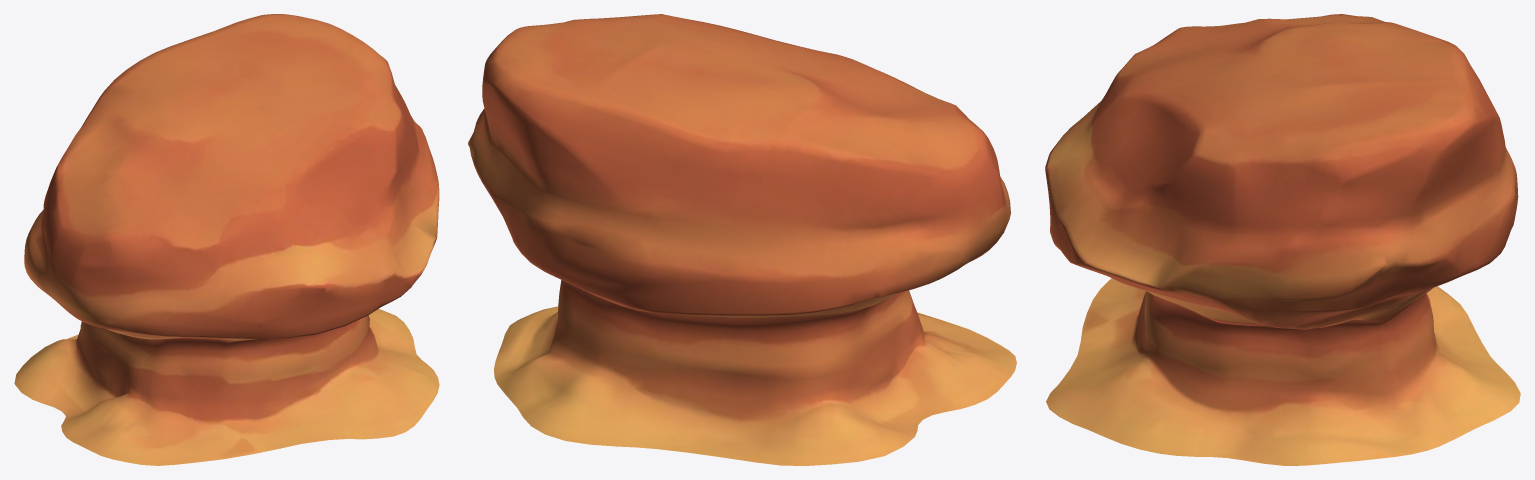
Rendered from SM_Tripo_DesertLowRockB.glb.
The picture shows the model from 3 angles, left to right: view 1: azimuth 30°, elevation 25°; view 2: azimuth 150°, elevation 25°; view 3: azimuth 270°, elevation 25°; orthographic projection. The views are drawn at different scales.
Visible parts, largest first — view 1: SM_Tripo_DesertLowRockB_LOD0; view 2: SM_Tripo_DesertLowRockB_LOD0; view 3: SM_Tripo_DesertLowRockB_LOD0.
Boxes of the visible parts, x1,y1,x2,y2 form: SM_Tripo_DesertLowRockB_LOD0: (14, 14, 439, 465); SM_Tripo_DesertLowRockB_LOD0: (468, 14, 1016, 465); SM_Tripo_DesertLowRockB_LOD0: (1045, 14, 1520, 465).
Size of the model in its own units: 1.78 by 1.2 by 1.59.
1 material, 1 textured.
